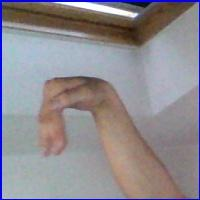del: (33, 71, 134, 165)
